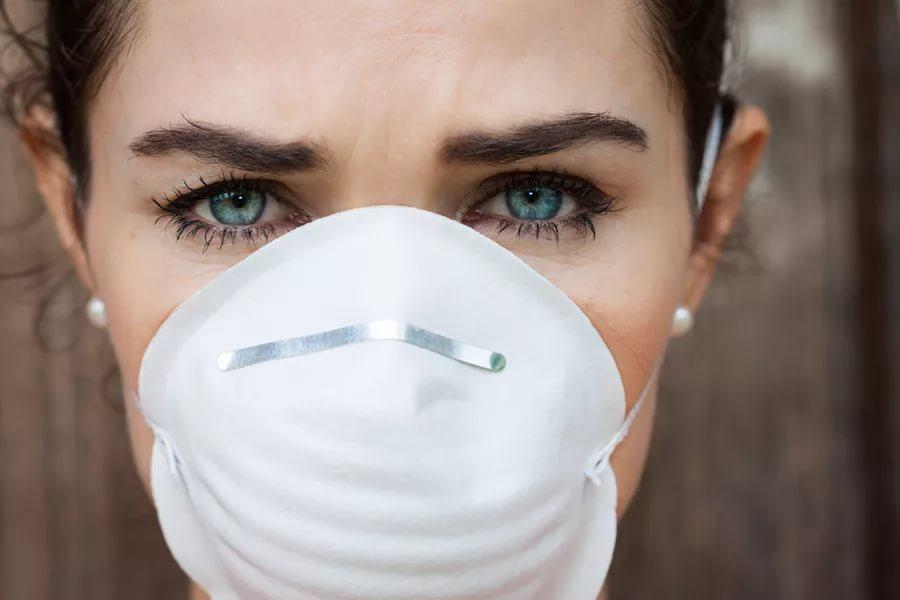mask: (88, 1, 689, 600)
